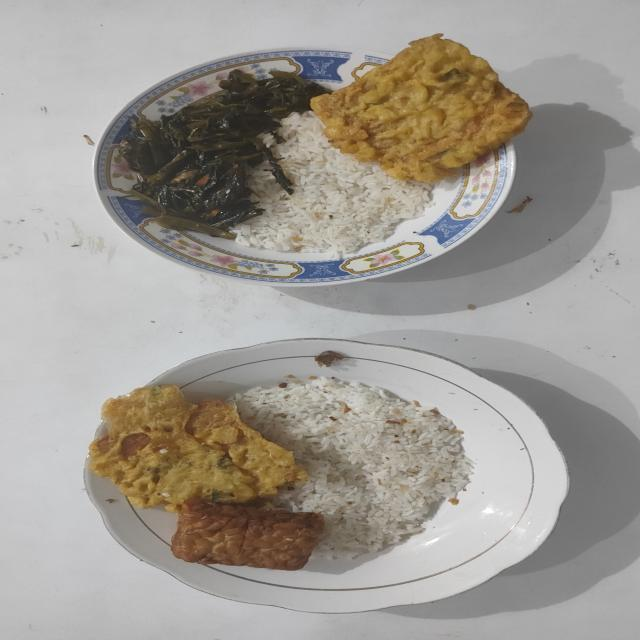nasi_putih: (237, 379, 473, 559), (236, 112, 434, 258)
tempe_goreng: (171, 499, 323, 570)
tumis_kangkung: (120, 70, 326, 236)
